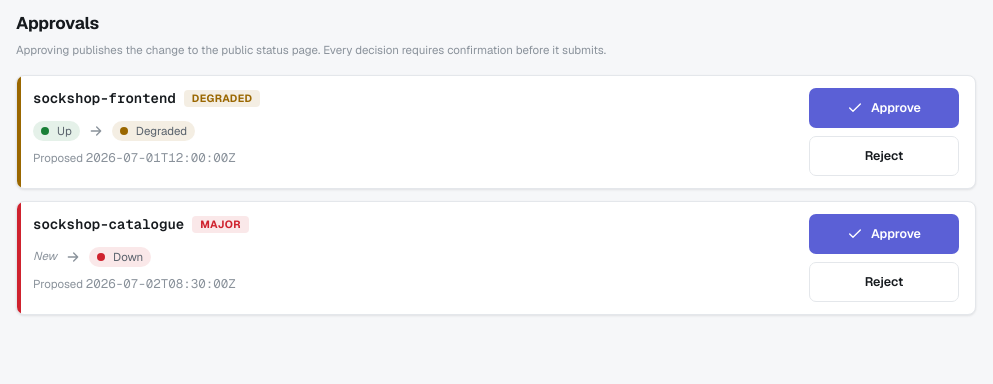
Scenario: ApprovalsPage › shows an inline "no longer exists" message and refreshes the list on a 404 (AC2)
Click the button "Reject" in the row of "2026-07-01T12:00:00Z". click: (884, 156)
box: [809, 136, 959, 176]
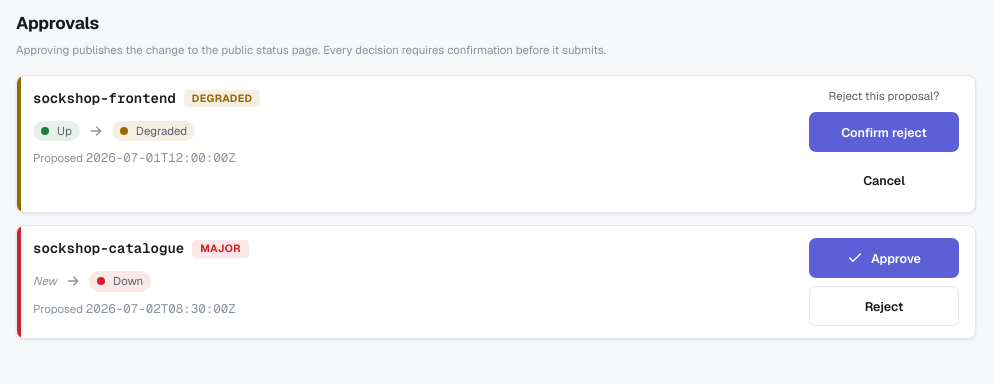
Click the button "Confirm reject". click: (884, 132)
box: [809, 112, 959, 152]
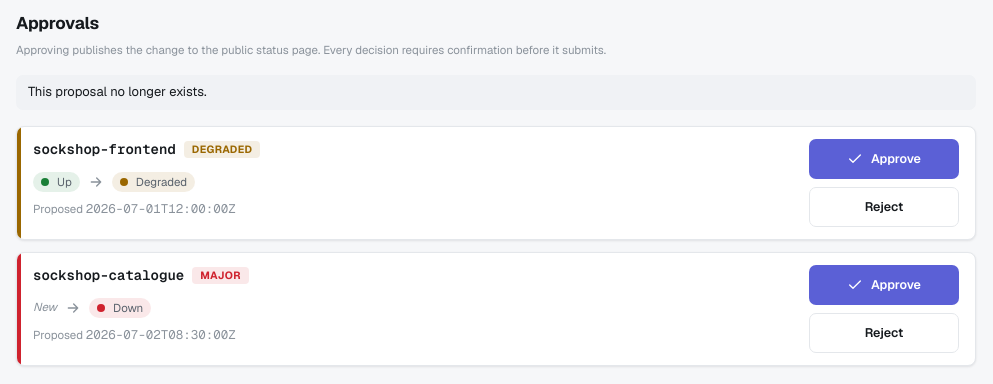
Now the text "This proposal no longer exists." is shown, box [16, 75, 976, 110]
